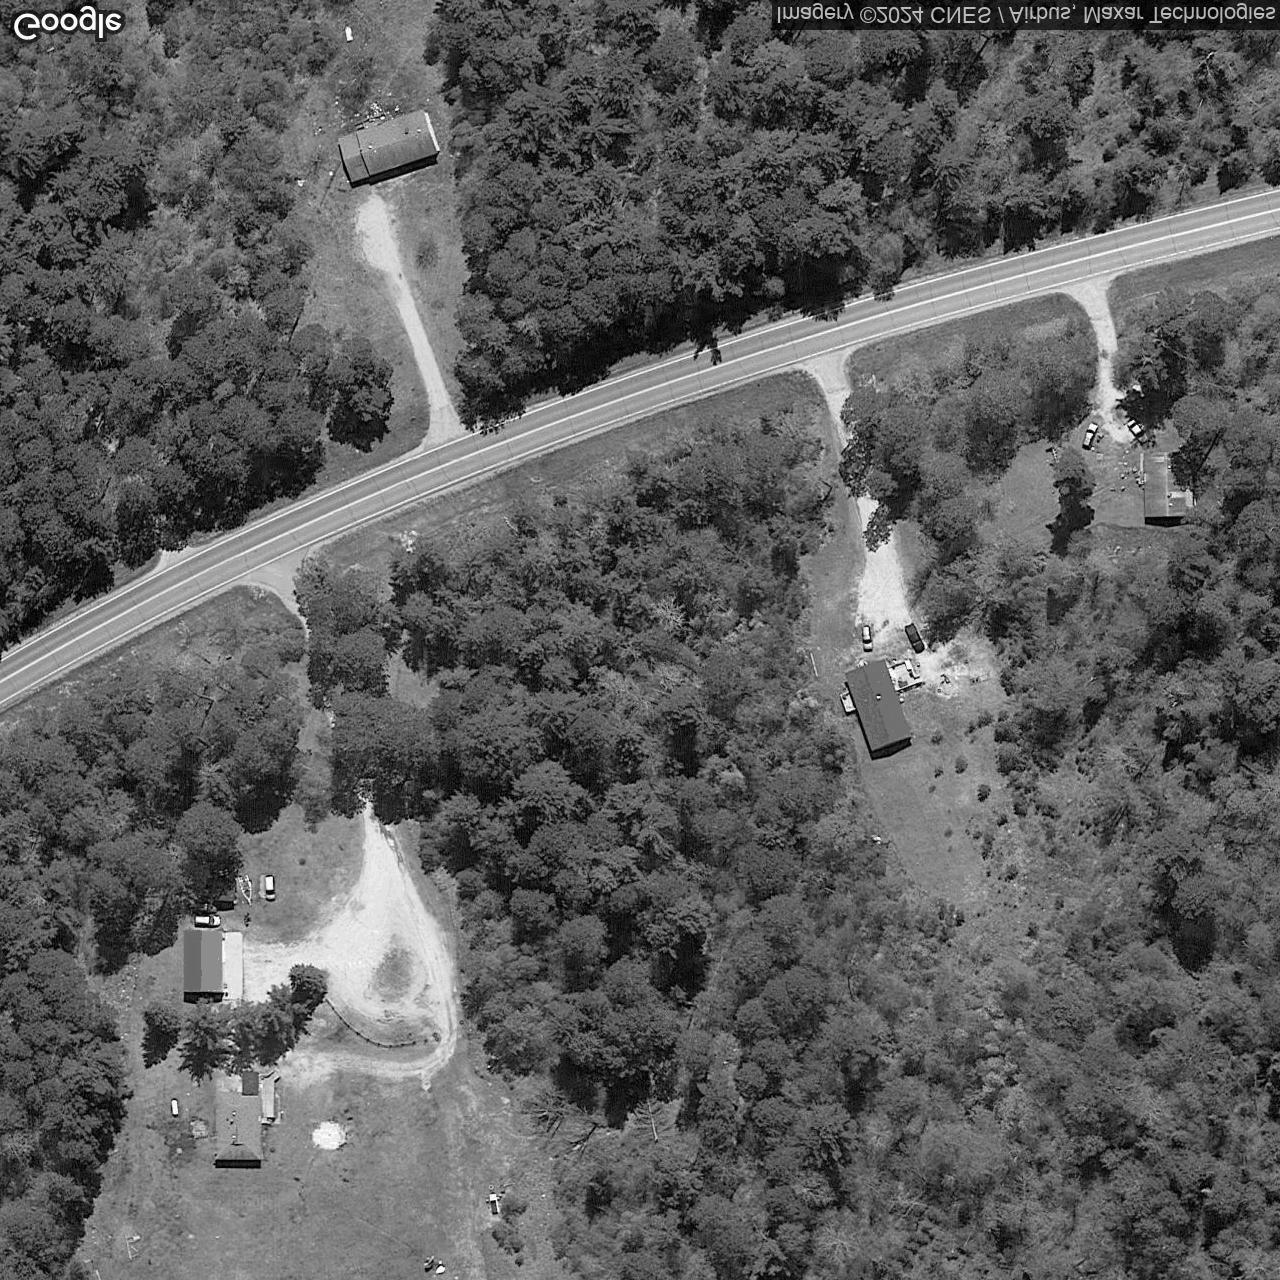Garage: (183, 930, 224, 993)
House: (336, 109, 442, 183), (845, 659, 912, 753), (1141, 451, 1193, 517), (215, 1091, 264, 1160)
Propane: (343, 25, 355, 43), (170, 1098, 179, 1118)
